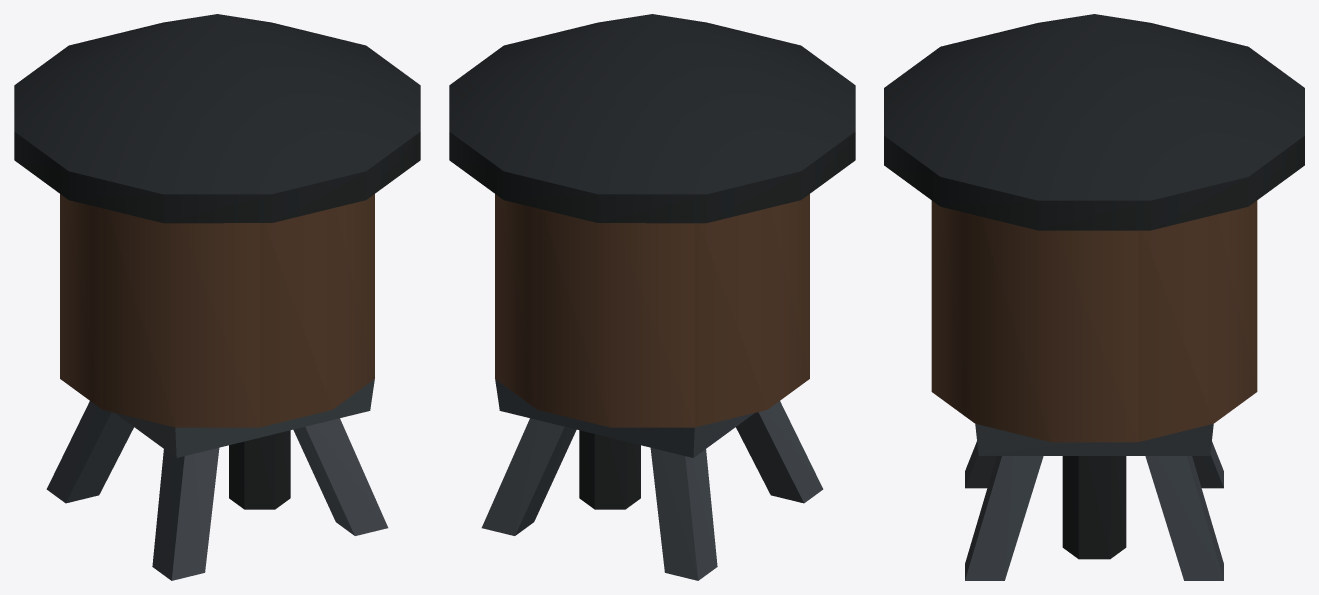
The model's file is water-tower.high.04a4b20b.glb.
The picture shows the model from 3 angles, left to right: view 1: azimuth 30°, elevation 25°; view 2: azimuth 150°, elevation 25°; view 3: azimuth 270°, elevation 25°; orthographic projection. The views are drawn at different scales.
Parts seen in each view (by area): view 1: water-tower; view 2: water-tower; view 3: water-tower.
Boxes of the visible parts, left/top/right/bottom form: water-tower: left=14, top=14, right=420, bottom=580; water-tower: left=449, top=14, right=855, bottom=580; water-tower: left=884, top=14, right=1304, bottom=580.
Bounding box in the file's own units: 5.58 × 7.5 × 5.58.
